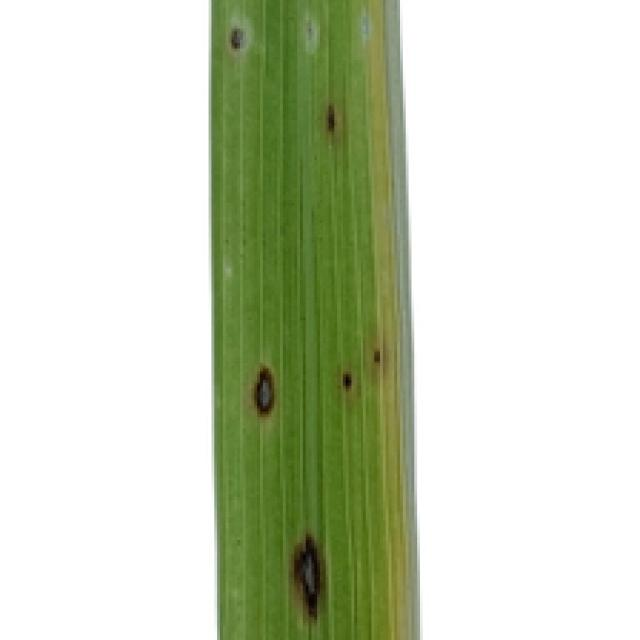Rice___Rice_Blast: (210, 0, 420, 637)
